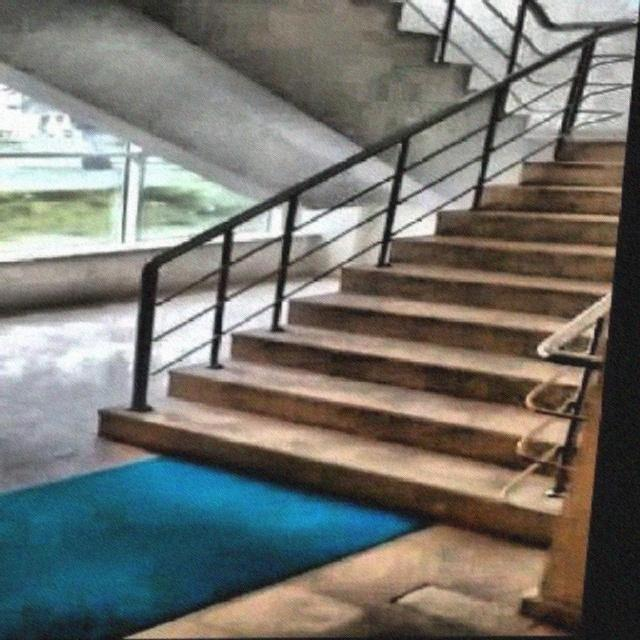stair: (75, 85, 630, 570)
